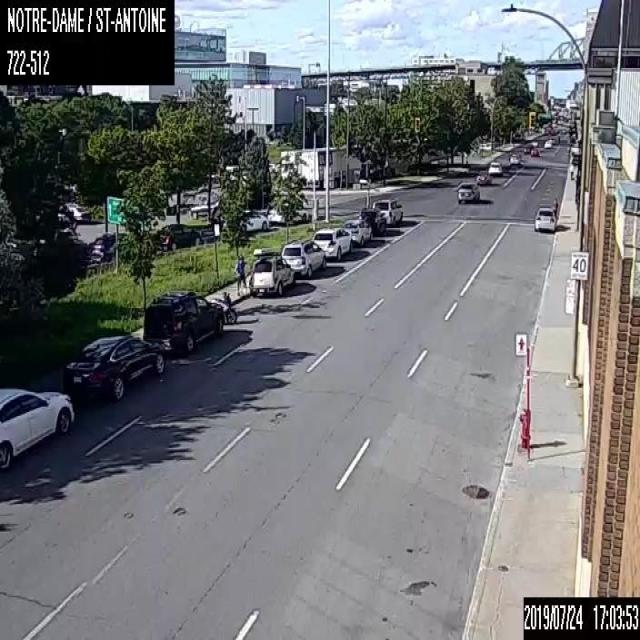pedestrian: (235, 253, 247, 296), (551, 195, 558, 212)
vehicle: (66, 332, 166, 401), (0, 386, 74, 470), (142, 289, 224, 355), (248, 245, 294, 295), (280, 239, 326, 275), (312, 226, 352, 261), (158, 222, 202, 250), (207, 292, 237, 324), (268, 201, 307, 225), (372, 197, 404, 224), (342, 218, 371, 244), (358, 207, 386, 233), (240, 208, 268, 232), (533, 204, 556, 231), (91, 234, 112, 257), (456, 182, 479, 201), (475, 169, 491, 184), (487, 160, 502, 175), (509, 152, 521, 162), (522, 142, 534, 152), (530, 148, 538, 156)
